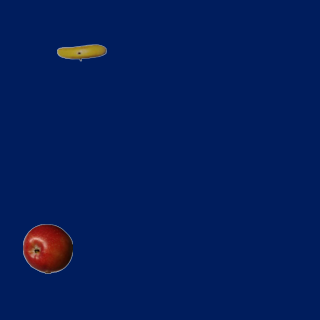Apple Braeburn: (22, 223, 72, 273)
Banana: (56, 27, 106, 77)
